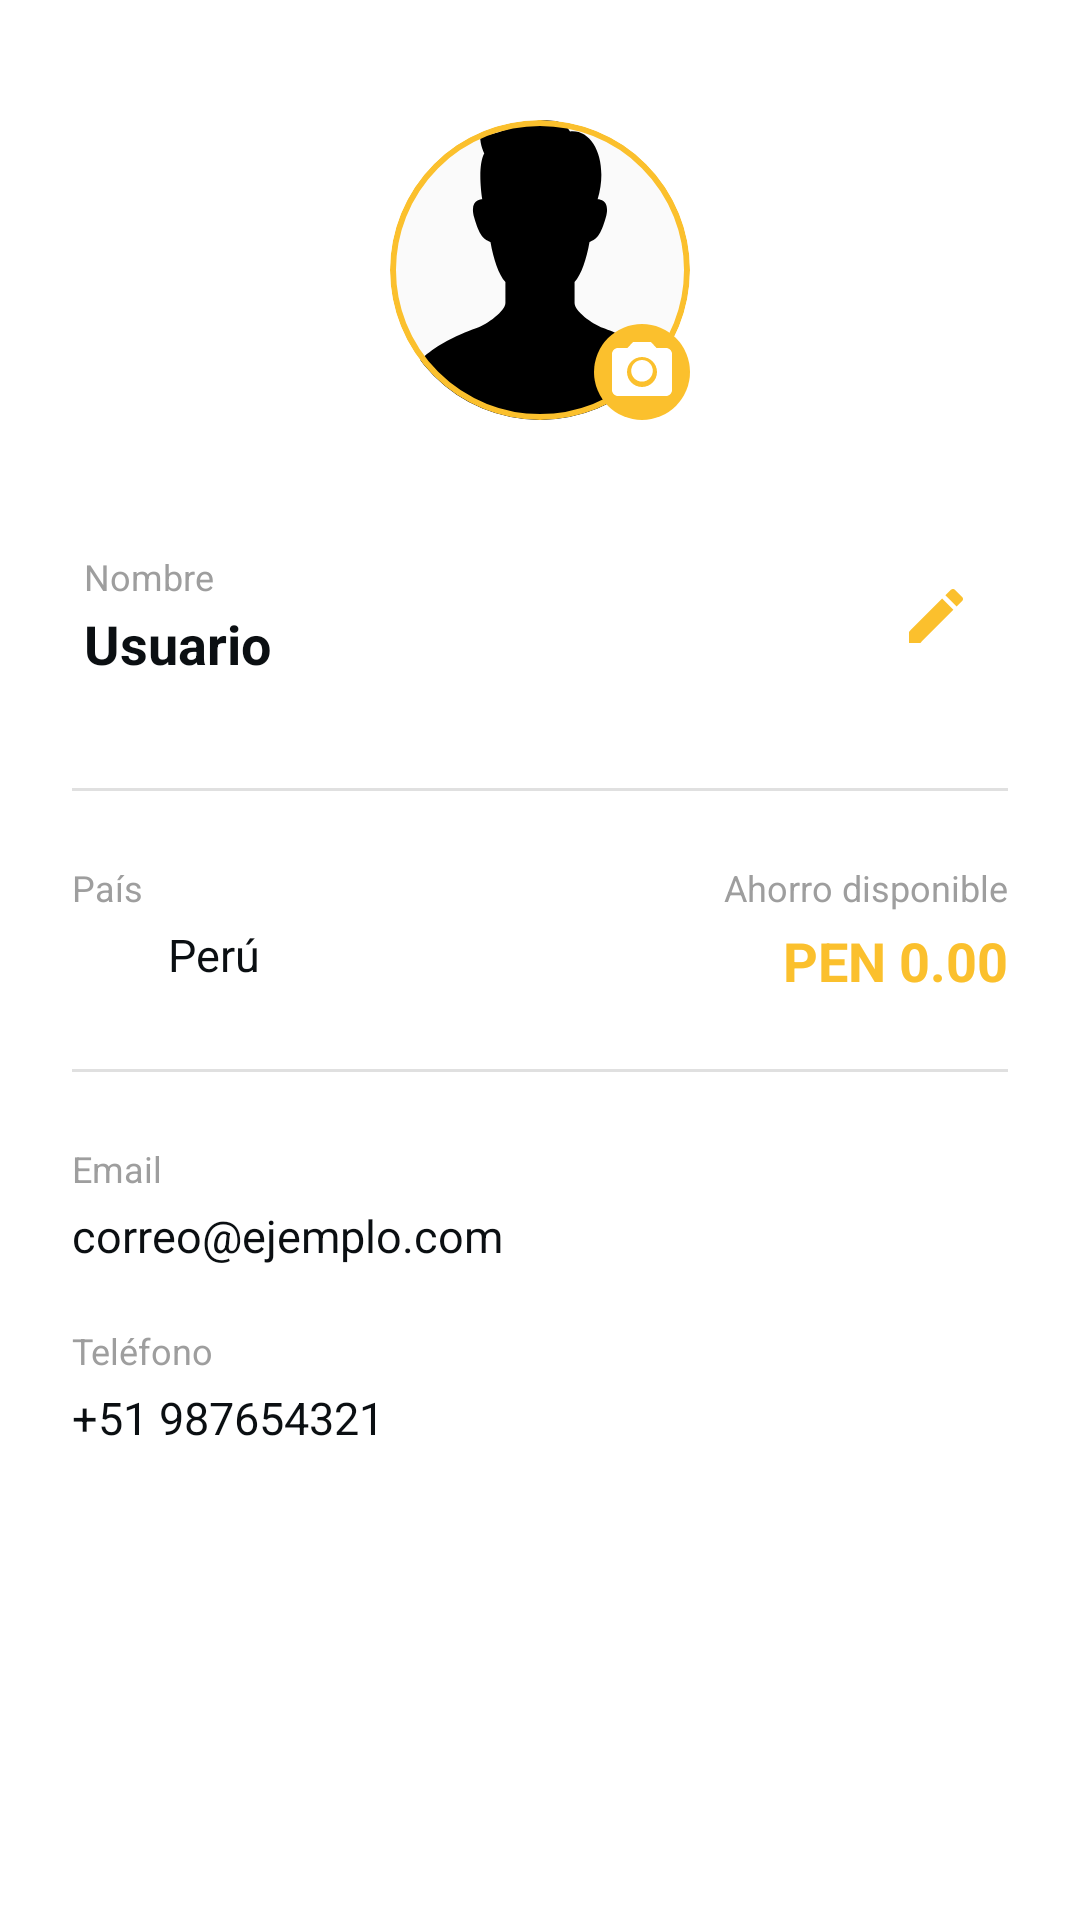

Screen size 1080x1920. Icon name, then its box in pixels as region(x1, y1, x2, y2):
Editar: region(909, 589, 963, 643)
